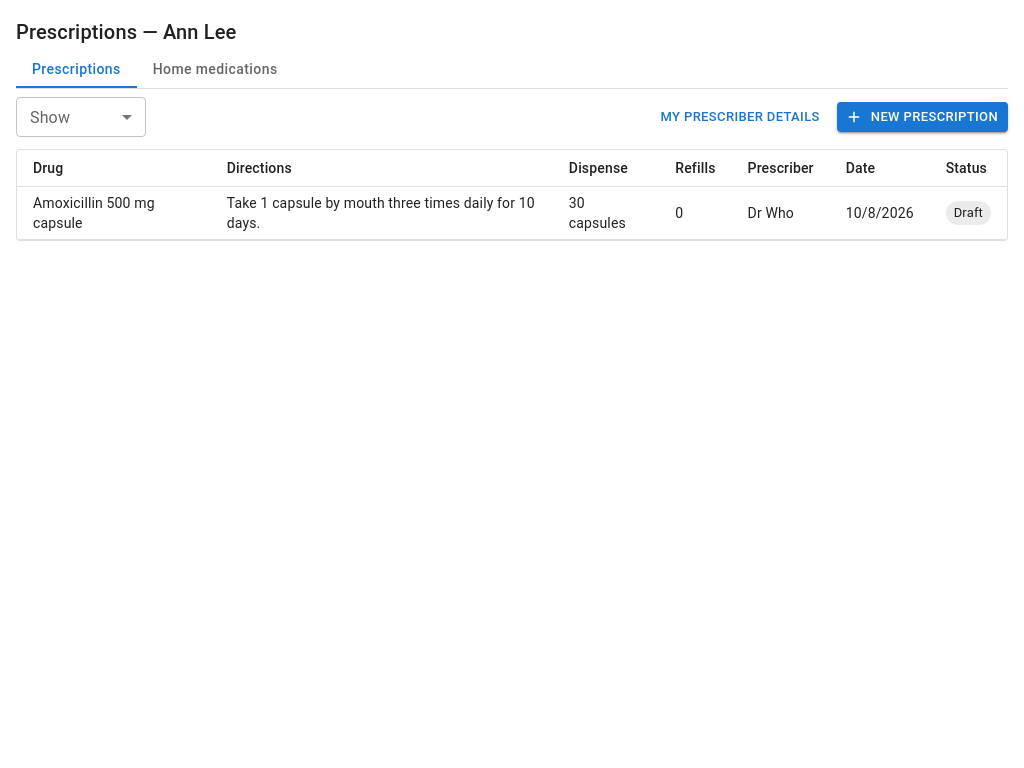
Test: panel › clicking a row opens it
Click the row with test id "rx-row-11" at (512, 213), box [17,186,1007,240]
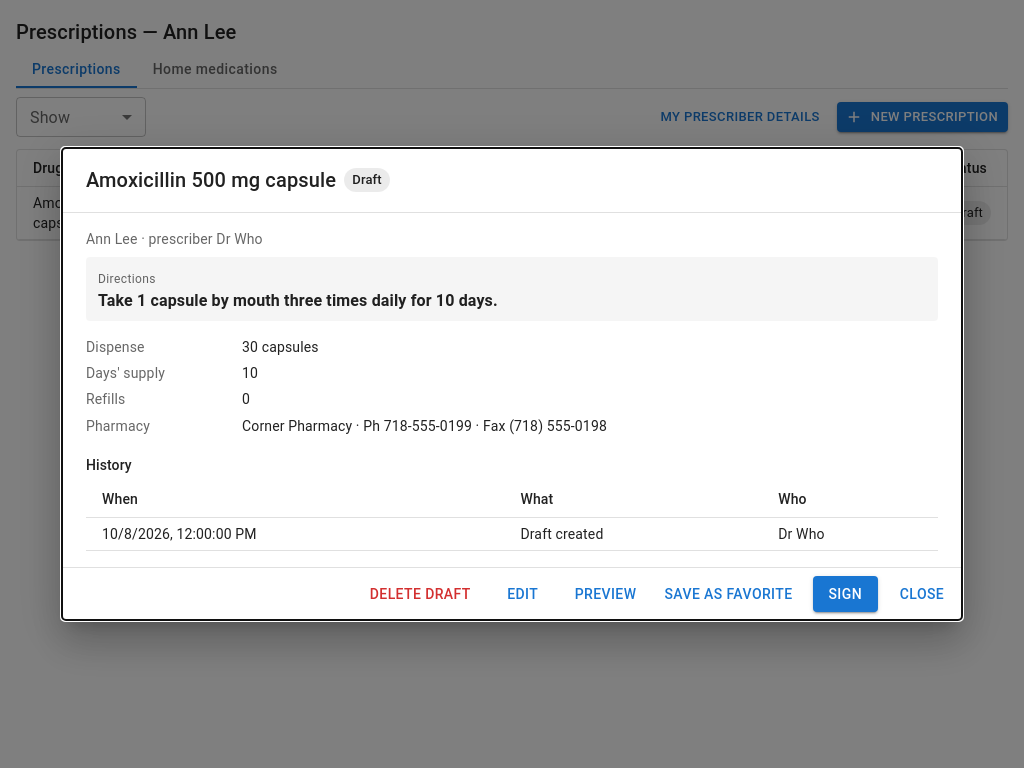
Expected: the element with test id "rx-detail" is shown
Expected: the text with test id "rx-sig" reads "Take 1 capsule by mouth three times daily for 10 days.", [98,291,498,310]
